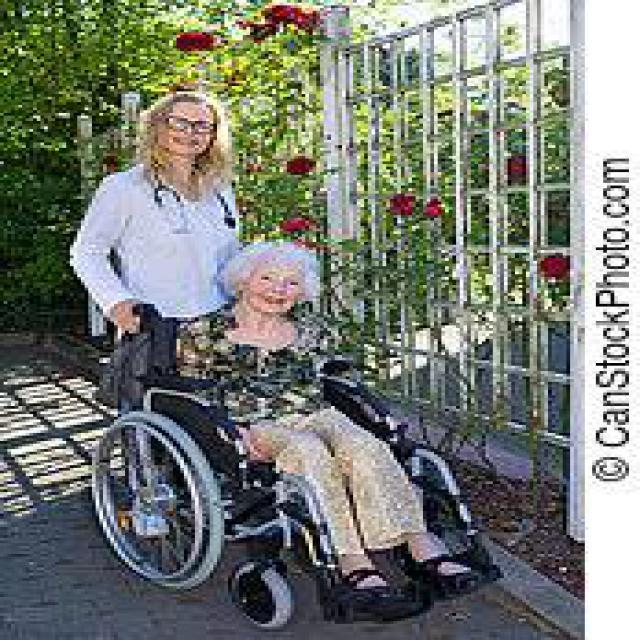wheelchairs: (88, 301, 519, 635)
